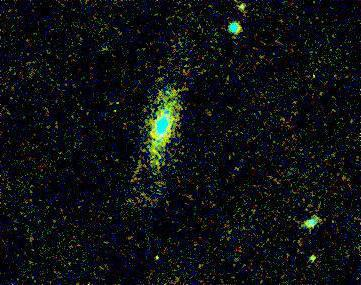star: (298, 242, 328, 272)
